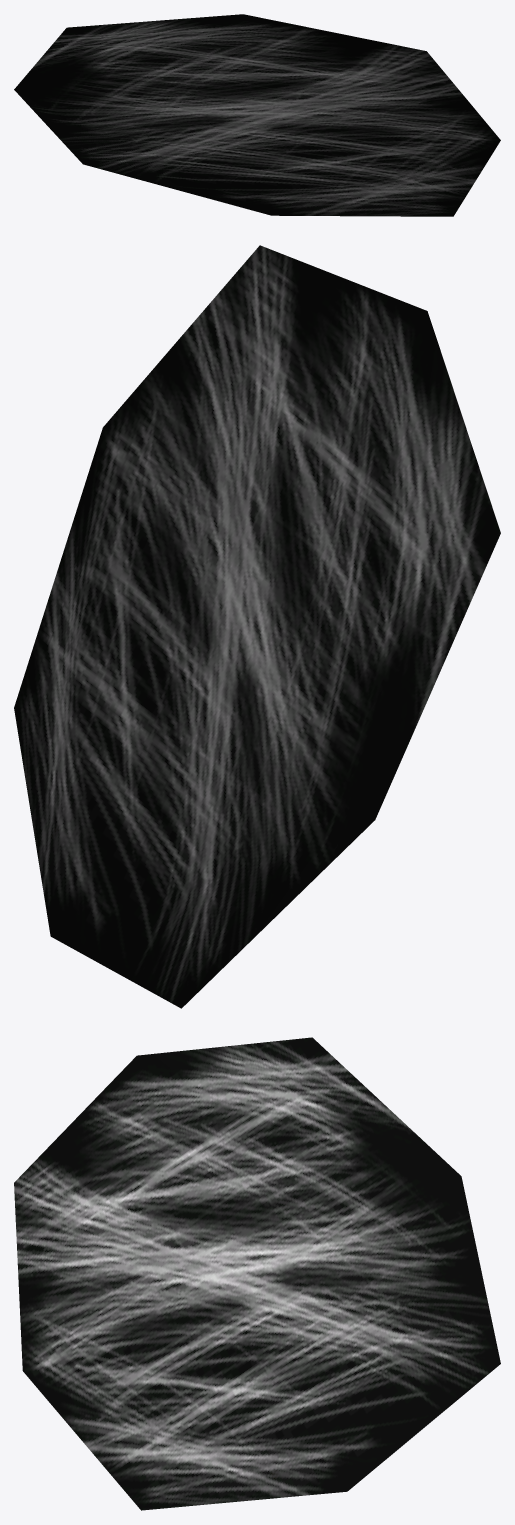
File: MIRKWOOD_SPIDERWEB_COVERS03.fbx
The picture shows the model from 3 angles, top to bottom: view 1: azimuth 30°, elevation 25°; view 2: azimuth 150°, elevation 25°; view 3: azimuth 270°, elevation 25°; orthographic projection. The views are drawn at different scales.
Parts seen in each view (by area): view 1: MIRKWOOD_SPIDERWEB_COVERS03; view 2: MIRKWOOD_SPIDERWEB_COVERS03; view 3: MIRKWOOD_SPIDERWEB_COVERS03.
Part boxes in pixels (x1=…): MIRKWOOD_SPIDERWEB_COVERS03: x1=14, y1=14, x2=500, y2=216; MIRKWOOD_SPIDERWEB_COVERS03: x1=14, y1=245, x2=500, y2=1008; MIRKWOOD_SPIDERWEB_COVERS03: x1=14, y1=1037, x2=500, y2=1510.
Bounding box in the file's own units: 29387 × 25418 × 30565.
Materials: 1 (1 with a texture image).
